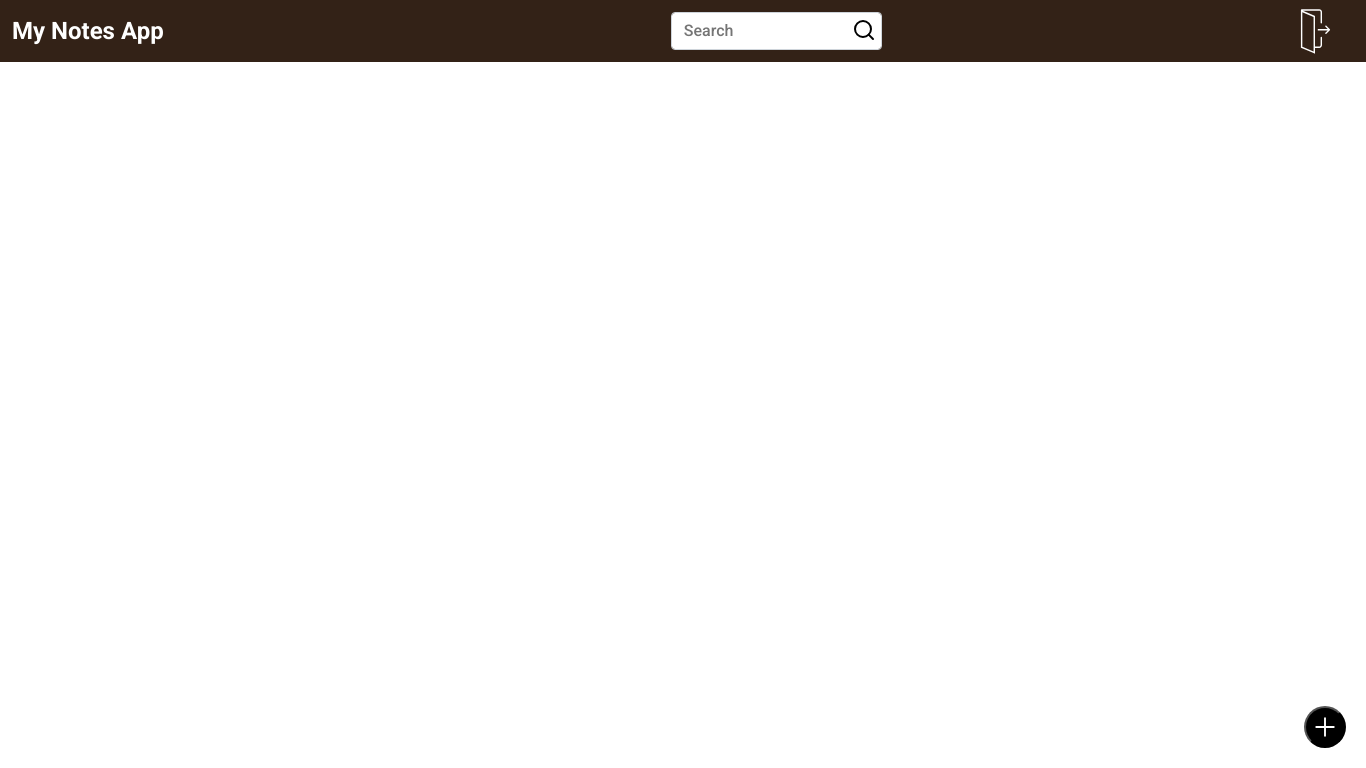
Test case: Home Component › opens modal when 'Add' button is clicked
The image size is (1366, 768).
Click the button with test id "add-button". click: (1325, 727)
box: [1304,706,1346,748]
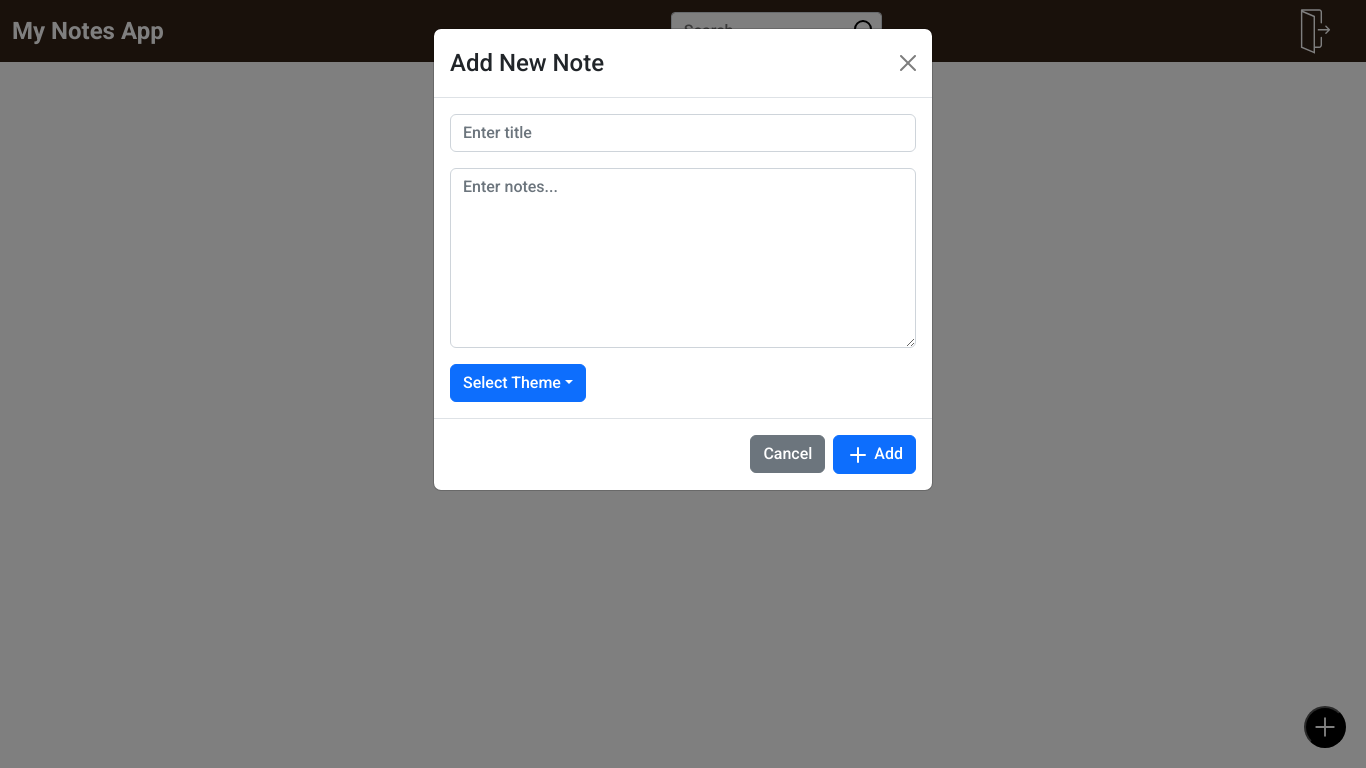
Now the text "Add New Note" is shown, box [450,45,604,81]
